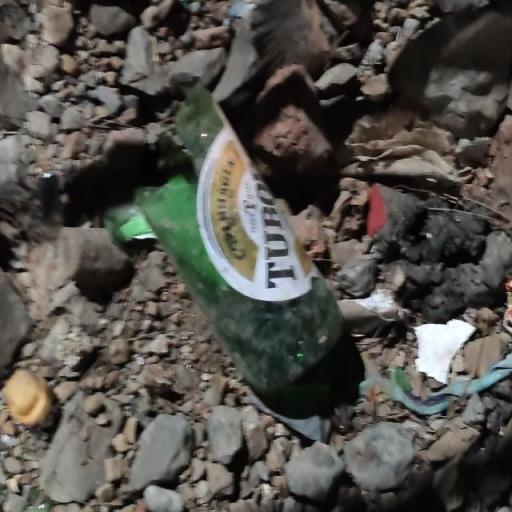glass: (122, 90, 358, 423)
